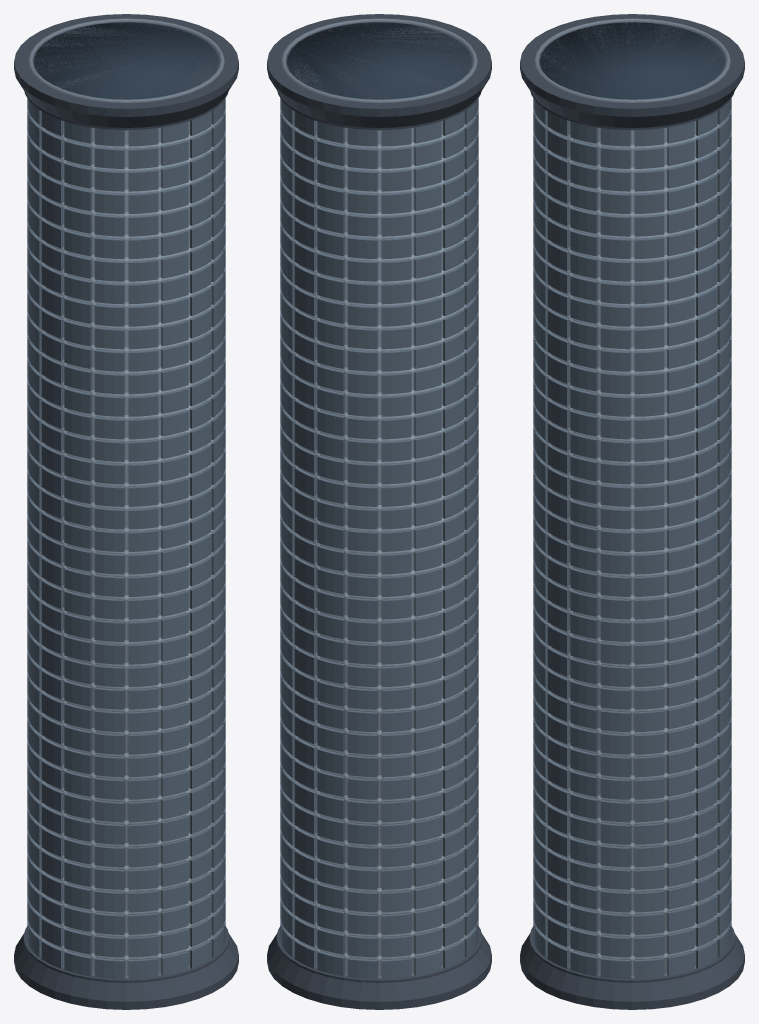
Rendered from SciFiEnergyColumn_Clean.fbx.
3 views of the same model, side by side, from view 1: azimuth 30°, elevation 25°; view 2: azimuth 150°, elevation 25°; view 3: azimuth 270°, elevation 25° (orthographic).
Visible parts, largest first — view 1: Armor Plates, Central Energy Housing, Glass_Horizontal_All, Glass_Vertical_All, Column_Cap_Top, Column_Base_Bottom; view 2: Armor Plates, Central Energy Housing, Glass_Horizontal_All, Glass_Vertical_All, Column_Cap_Top, Column_Base_Bottom; view 3: Armor Plates, Central Energy Housing, Glass_Horizontal_All, Glass_Vertical_All, Column_Cap_Top, Column_Base_Bottom.
Boxes of the visible parts, x1=… form: Armor Plates: x1=27, y1=98, x2=225, y2=979; Central Energy Housing: x1=34, y1=22, x2=218, y2=976; Glass_Horizontal_All: x1=28, y1=18, x2=224, y2=960; Glass_Vertical_All: x1=30, y1=111, x2=222, y2=978; Column_Cap_Top: x1=14, y1=14, x2=238, y2=130; Column_Base_Bottom: x1=14, y1=926, x2=238, y2=1009; Armor Plates: x1=280, y1=98, x2=478, y2=979; Central Energy Housing: x1=287, y1=22, x2=471, y2=976; Glass_Horizontal_All: x1=281, y1=18, x2=477, y2=960; Glass_Vertical_All: x1=283, y1=111, x2=475, y2=978; Column_Cap_Top: x1=267, y1=14, x2=491, y2=130; Column_Base_Bottom: x1=267, y1=926, x2=491, y2=1009; Armor Plates: x1=533, y1=98, x2=731, y2=979; Central Energy Housing: x1=540, y1=22, x2=724, y2=976; Glass_Horizontal_All: x1=534, y1=18, x2=730, y2=960; Glass_Vertical_All: x1=536, y1=111, x2=728, y2=978; Column_Cap_Top: x1=520, y1=14, x2=744, y2=130; Column_Base_Bottom: x1=520, y1=926, x2=744, y2=1009.
Bounding box in the file's own units: 11.3 × 50.21 × 11.3.
